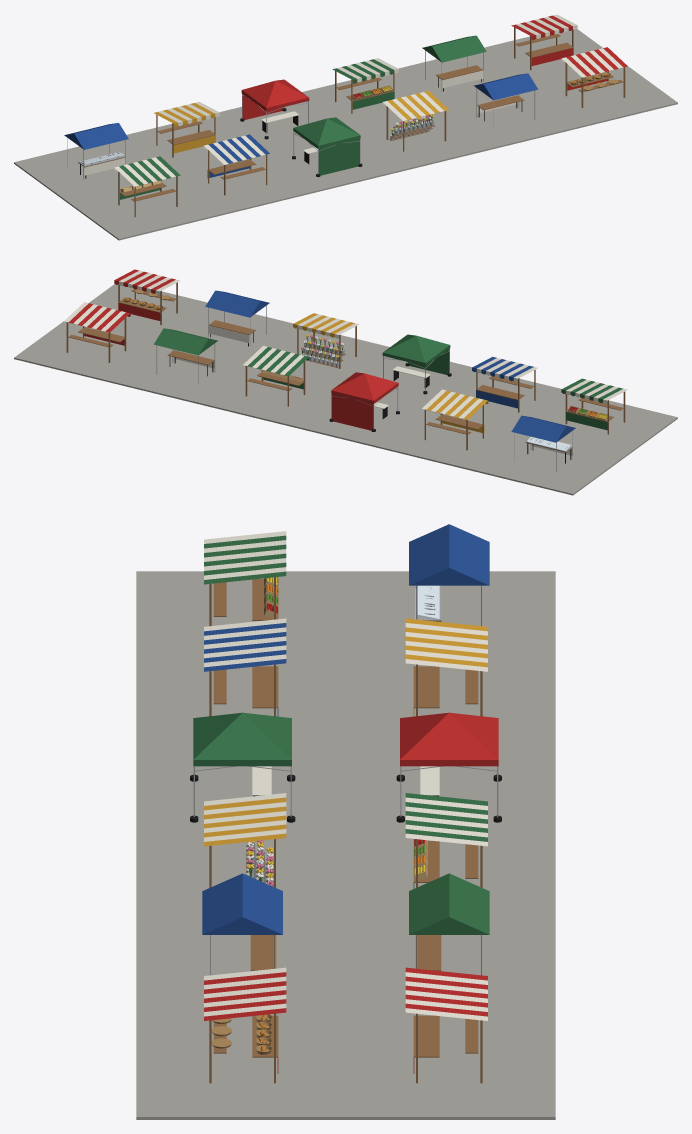
File: market_01.glb
3 renders of one model, top to bottom at view 1: azimuth 30°, elevation 25°; view 2: azimuth 150°, elevation 25°; view 3: azimuth 270°, elevation 25°, orthographic. The views are drawn at different scales.
Parts seen in each view (by area): view 1: Street market lane with 12 stalls - Paving / floor, concrete, Street market lane with 12 stalls - Canvas, off-white, Street market lane with 12 stalls - Canvas, green, Street market lane with 12 stalls - Timber, weathered, Street market lane with 12 stalls - Canvas, red, Street market lane with 12 stalls - Canvas, blue, Street market lane with 12 stalls - Canvas, ochre, Street market lane with 12 stalls - Steel tube, galvanised, Street market lane with 12 stalls - Crates, light pine, Street market lane with 12 stalls - Black steel / plastic, Street market lane with 12 stalls - Buckets, zinc; view 2: Street market lane with 12 stalls - Paving / floor, concrete, Street market lane with 12 stalls - Canvas, off-white, Street market lane with 12 stalls - Timber, weathered, Street market lane with 12 stalls - Canvas, green, Street market lane with 12 stalls - Canvas, red, Street market lane with 12 stalls - Canvas, blue, Street market lane with 12 stalls - Canvas, ochre, Street market lane with 12 stalls - Steel tube, galvanised, Street market lane with 12 stalls - Buckets, zinc, Street market lane with 12 stalls - Black steel / plastic, Street market lane with 12 stalls - Crates, light pine; view 3: Street market lane with 12 stalls - Paving / floor, concrete, Street market lane with 12 stalls - Canvas, off-white, Street market lane with 12 stalls - Canvas, green, Street market lane with 12 stalls - Timber, weathered, Street market lane with 12 stalls - Canvas, blue, Street market lane with 12 stalls - Canvas, red, Street market lane with 12 stalls - Canvas, ochre, Street market lane with 12 stalls - Steel tube, galvanised, Street market lane with 12 stalls - Wicker baskets.
Boxes of the visible parts, x1,y1,x2,y2 form: Street market lane with 12 stalls - Paving / floor, concrete: (14, 29, 677, 240); Street market lane with 12 stalls - Canvas, off-white: (84, 14, 623, 186); Street market lane with 12 stalls - Canvas, green: (119, 35, 486, 199); Street market lane with 12 stalls - Timber, weathered: (78, 27, 625, 217); Street market lane with 12 stalls - Canvas, red: (241, 15, 627, 119); Street market lane with 12 stalls - Canvas, blue: (64, 73, 538, 177); Street market lane with 12 stalls - Canvas, ochre: (154, 91, 448, 153); Street market lane with 12 stalls - Steel tube, galvanised: (67, 50, 535, 179); Street market lane with 12 stalls - Crates, light pine: (120, 85, 392, 192); Street market lane with 12 stalls - Black steel / plastic: (80, 77, 522, 178); Street market lane with 12 stalls - Buckets, zinc: (390, 120, 434, 140); Street market lane with 12 stalls - Paving / floor, concrete: (14, 284, 677, 495); Street market lane with 12 stalls - Canvas, off-white: (64, 270, 627, 455); Street market lane with 12 stalls - Timber, weathered: (66, 282, 625, 452); Street market lane with 12 stalls - Canvas, green: (153, 328, 622, 430); Street market lane with 12 stalls - Canvas, red: (68, 269, 398, 430); Street market lane with 12 stalls - Canvas, blue: (205, 290, 575, 442); Street market lane with 12 stalls - Canvas, ochre: (293, 313, 488, 432); Street market lane with 12 stalls - Steel tube, galvanised: (156, 305, 572, 471); Street market lane with 12 stalls - Buckets, zinc: (300, 340, 344, 367); Street market lane with 12 stalls - Black steel / plastic: (169, 332, 571, 463); Street market lane with 12 stalls - Crates, light pine: (262, 370, 607, 420); Street market lane with 12 stalls - Paving / floor, concrete: (136, 571, 555, 1119); Street market lane with 12 stalls - Canvas, off-white: (204, 531, 487, 1020); Street market lane with 12 stalls - Canvas, green: (193, 535, 489, 934); Street market lane with 12 stalls - Timber, weathered: (209, 577, 482, 1083); Street market lane with 12 stalls - Canvas, blue: (202, 524, 489, 934); Street market lane with 12 stalls - Canvas, red: (204, 712, 498, 1073); Street market lane with 12 stalls - Canvas, ochre: (204, 618, 487, 846); Street market lane with 12 stalls - Steel tube, galvanised: (193, 585, 498, 975); Street market lane with 12 stalls - Wicker baskets: (211, 1014, 271, 1054).
Bounding box in the file's own units: 40 × 3.1 × 13.
23 materials, 23 textured.
